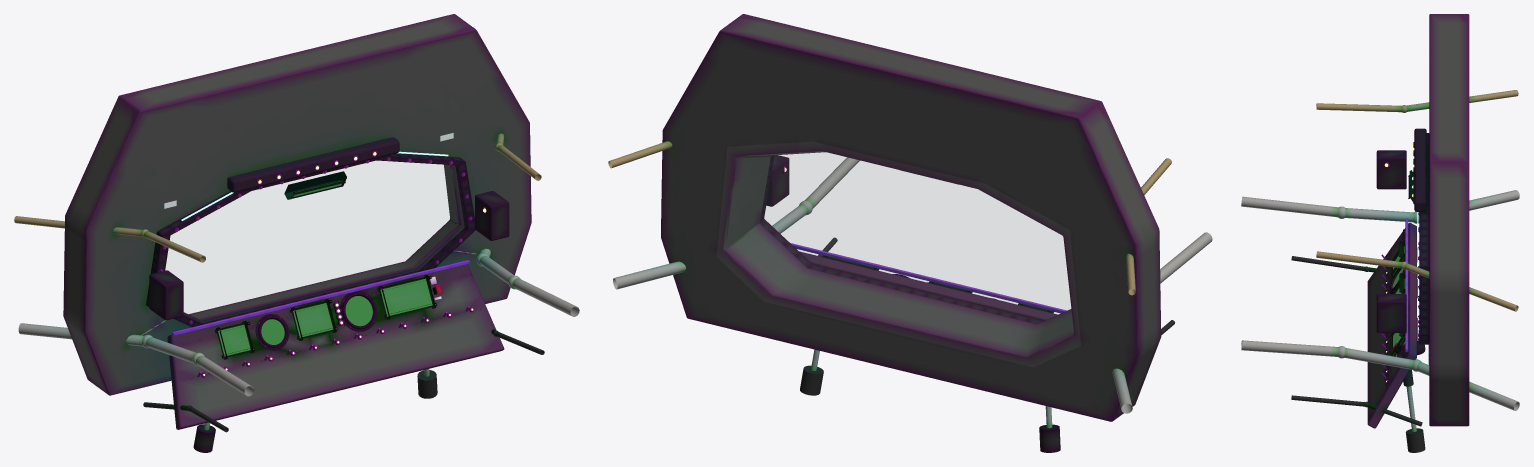
The model's file is commander.glb.
The picture shows the model from 3 angles, left to right: view 1: azimuth 30°, elevation 25°; view 2: azimuth 150°, elevation 25°; view 3: azimuth 270°, elevation 25°; orthographic projection. The views are drawn at different scales.
Visible parts, largest first — view 1: static.paint, glass.visor, static.paint_dark, static.steel, static.brass, static.trim, static.screen.weapons, static.screen.hull, static.rubber, static.screen.economy, static.screen.radar; view 2: static.paint, glass.visor, static.steel, static.paint_dark, static.trim, static.brass, grid.anim.stick_r, grid.anim.stick_l; view 3: static.paint, static.paint_dark, static.steel, static.brass, static.rubber, grid.anim.stick_r, static.trim.
Part boxes in pixels (x1,y1,x2,y2): static.paint: (63, 14, 531, 429); glass.visor: (166, 161, 449, 313); static.paint_dark: (146, 137, 509, 377); static.steel: (18, 151, 579, 396); static.brass: (14, 133, 541, 262); static.trim: (172, 260, 469, 335); static.screen.weapons: (380, 278, 432, 316); static.screen.hull: (293, 303, 333, 337); static.rubber: (143, 329, 544, 432); static.screen.economy: (218, 324, 250, 355); static.screen.radar: (345, 296, 372, 326); static.paint: (661, 14, 1161, 421); glass.visor: (717, 142, 1080, 366); static.steel: (613, 157, 1212, 413); static.paint_dark: (760, 155, 1053, 323); static.trim: (790, 243, 1066, 313); static.brass: (608, 141, 1171, 295); grid.anim.stick_r: (800, 349, 823, 395); grid.anim.stick_l: (1039, 406, 1060, 452); static.paint: (1367, 14, 1469, 428); static.paint_dark: (1376, 128, 1429, 387); static.steel: (1241, 142, 1519, 410); static.brass: (1316, 90, 1518, 311); static.rubber: (1291, 256, 1422, 426); grid.anim.stick_r: (1403, 369, 1425, 452); static.trim: (1405, 218, 1408, 352).
Size of the model in its own units: 2.06 by 1.38 by 1.11.
